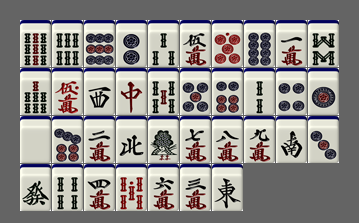0m: (52, 68, 83, 115)
0p: (212, 20, 243, 67)
0s: (116, 164, 147, 211)
1m: (276, 20, 307, 67)
1p: (308, 68, 339, 115)
1s: (148, 116, 179, 163)
1z: (212, 164, 243, 211)
2m: (84, 116, 115, 163)
2p: (116, 20, 147, 67)
2s: (244, 68, 275, 115)
2z: (276, 116, 307, 163)
3m: (180, 164, 211, 211)
3p: (308, 116, 339, 163)
3s: (148, 20, 179, 67)
3z: (84, 68, 115, 115)
4m: (84, 164, 115, 211)
4p: (276, 68, 307, 115)
4s: (52, 164, 83, 211)
4z: (116, 116, 147, 163)
5m: (180, 20, 211, 67)
5p: (180, 68, 211, 115)
5s: (148, 68, 179, 115)
5z: (20, 116, 51, 163)
6m: (148, 164, 179, 211)
6p: (212, 68, 243, 115)
6s: (52, 20, 83, 67)
6z: (20, 164, 51, 211)
7m: (180, 116, 211, 163)
7p: (52, 116, 83, 163)
7s: (20, 68, 51, 115)
7z: (116, 68, 147, 115)
8m: (212, 116, 243, 163)
8p: (244, 20, 275, 67)
8s: (308, 20, 339, 67)
9m: (244, 116, 275, 163)
9p: (84, 20, 115, 67)
9s: (20, 20, 51, 67)
